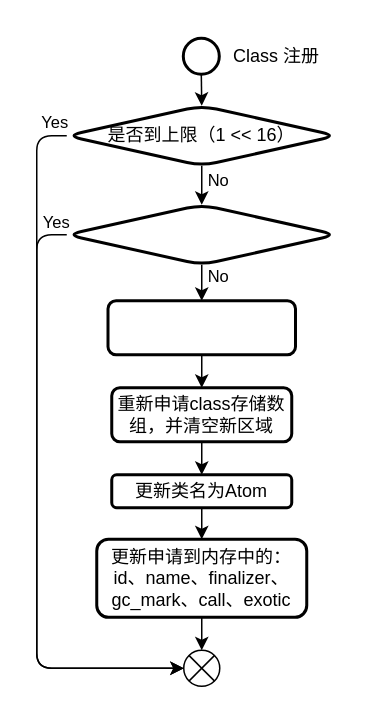
Image size: 365x713. Some labels were removed from this diagram. Each missing label, with the centre of its shape:
"id小于count，重复" goes at point 201,234.
"遍历上下文列表，更新上下文中的原型数组" goes at point 201,327.
